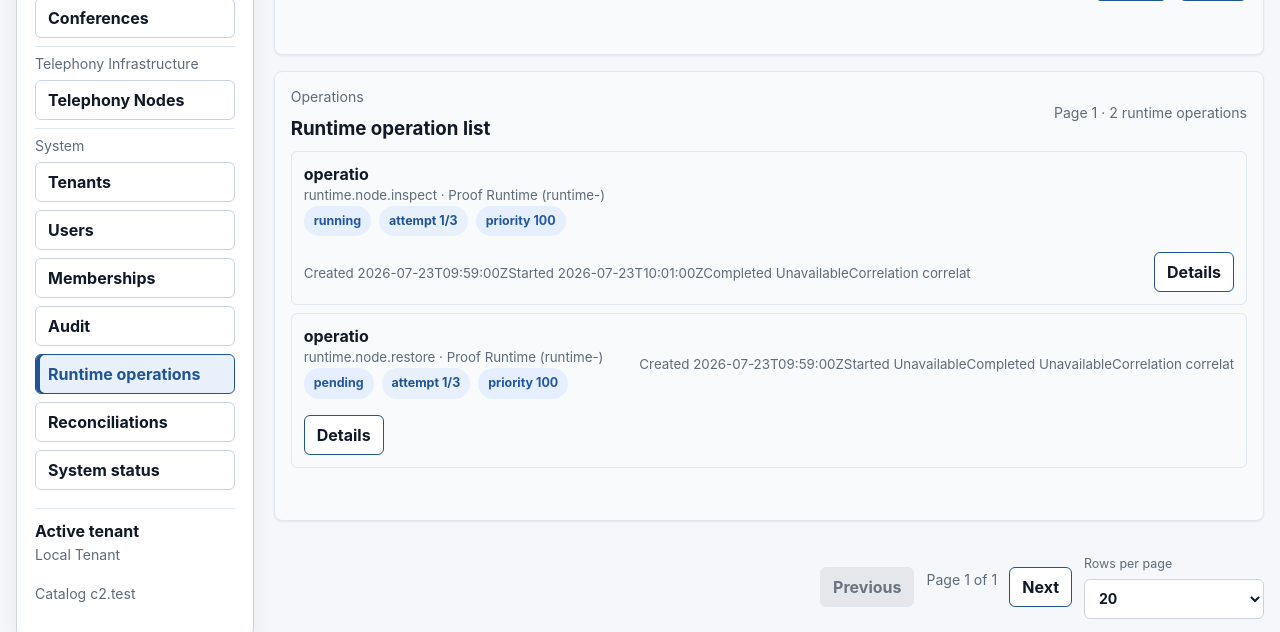
Test case: C1 App shell › handles Runtime Operation empty, forbidden, validation, and not-found states
The image size is (1280, 632).
(page scrolled)
Click the button "Details" in the row of "Started 2026-07-23T10:01:00Z". click: (1194, 272)
box: [1154, 252, 1234, 292]
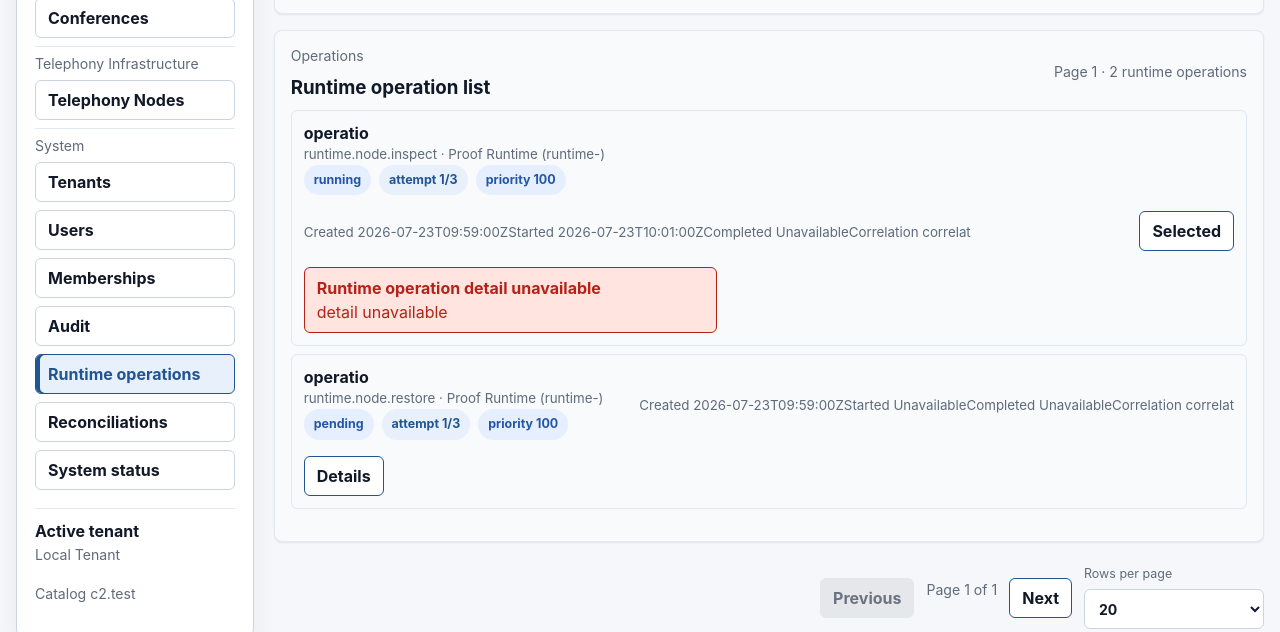
Expected: the text "Runtime operation detail unavailable" is shown, [317, 278, 601, 298]
